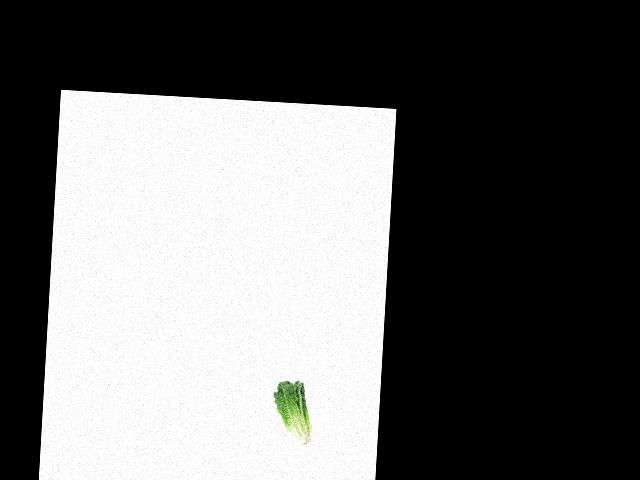lettuce: (271, 378, 316, 449)
